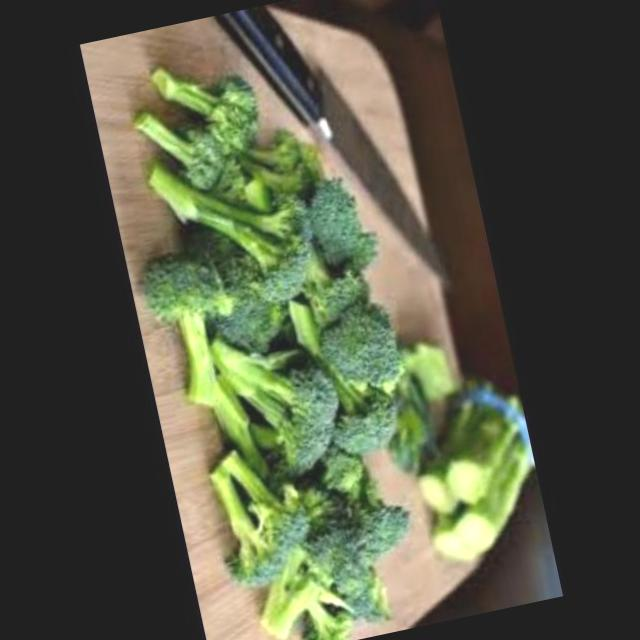Broccoli: (86, 21, 467, 640)
